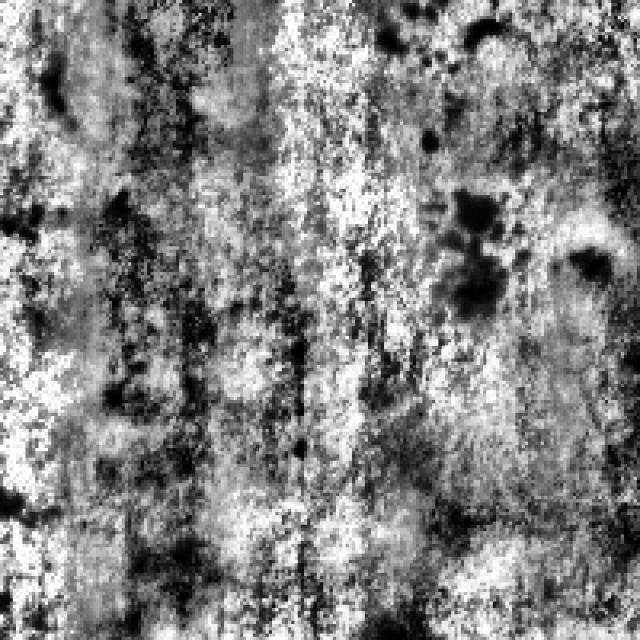Patches: (432, 182, 509, 314), (16, 36, 83, 134), (547, 224, 618, 307)
Scratches: (64, 0, 259, 490), (390, 320, 636, 589), (413, 64, 637, 198), (70, 480, 224, 637)
